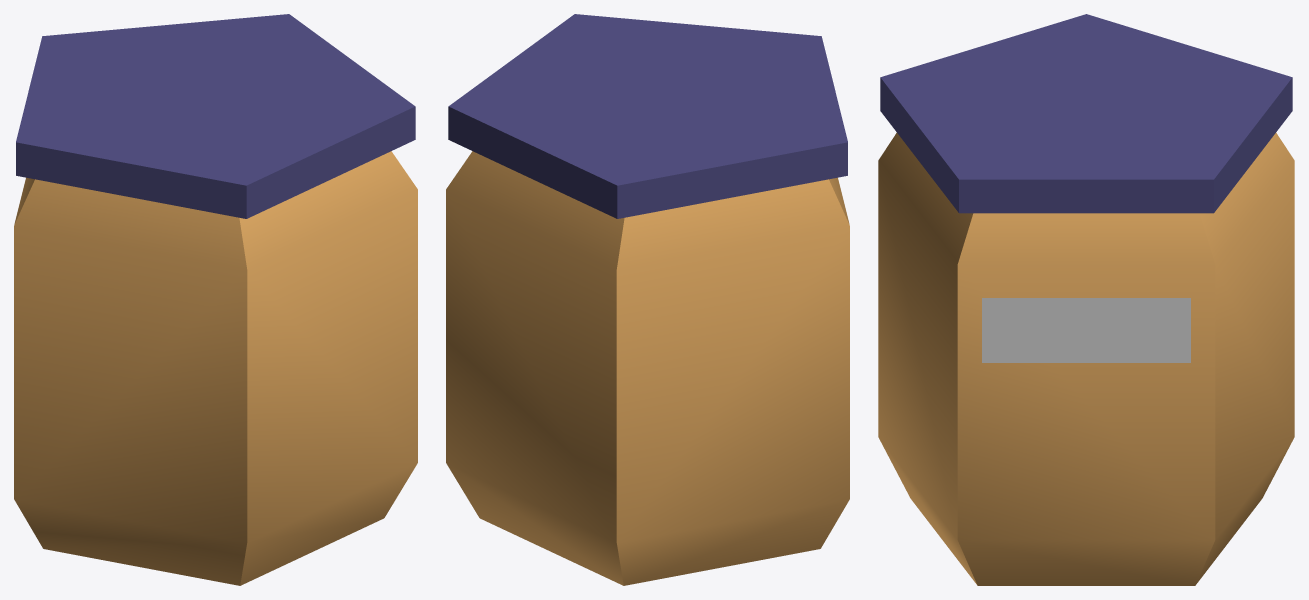
The model's file is Mayonnaise_01_SkF.fbx.
3 views of the same model, side by side, from view 1: azimuth 30°, elevation 25°; view 2: azimuth 150°, elevation 25°; view 3: azimuth 270°, elevation 25° (orthographic).
Parts seen in each view (by area): view 1: Mayonnaise_01; view 2: Mayonnaise_01; view 3: Mayonnaise_01.
Boxes of the visible parts, x1,y1,x2,y2 form: Mayonnaise_01: (14,14,417,585); Mayonnaise_01: (446,14,849,585); Mayonnaise_01: (878,14,1294,585).
Size of the model in its own units: 7.31 by 8.41 by 7.61.
1 material, 1 textured.
